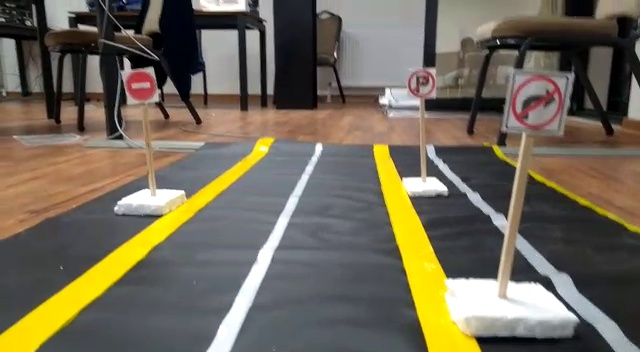girisi_olmayan_yol: (122, 68, 158, 101)
park_yapilmaz: (407, 70, 438, 95)
saga_donulmez: (514, 72, 565, 133)
